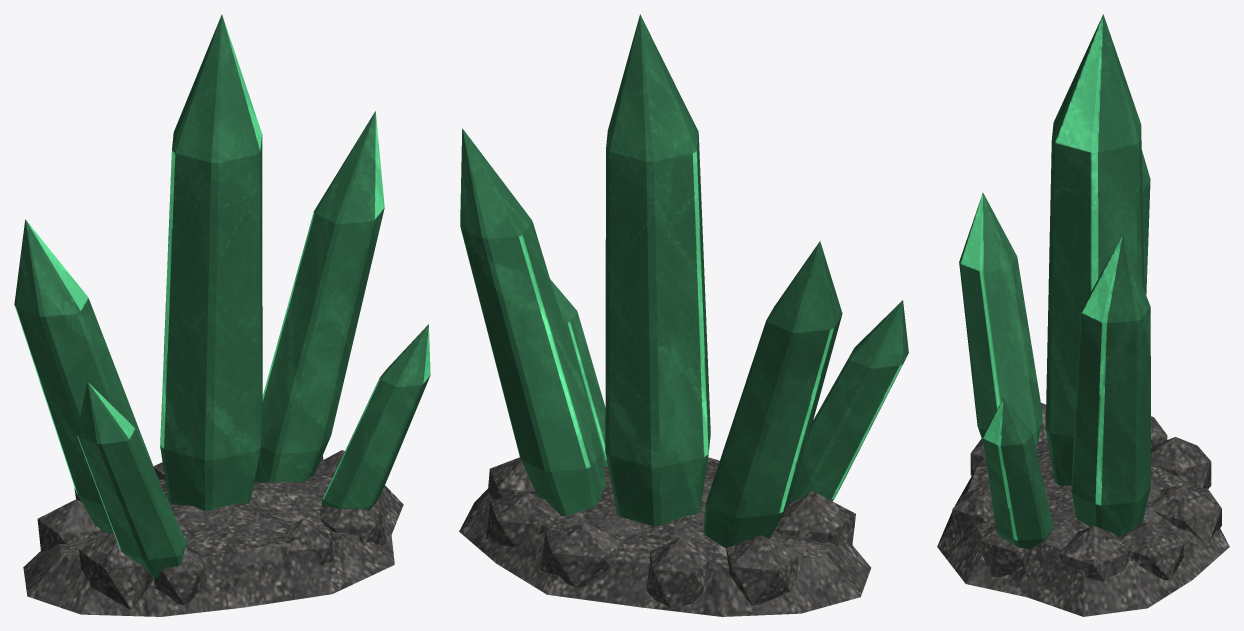
Rendered from ore_cluster_06_bloom.glb.
3 views of the same model, side by side, from view 1: azimuth 30°, elevation 25°; view 2: azimuth 150°, elevation 25°; view 3: azimuth 270°, elevation 25° (orthographic). The views are drawn at different scales.
Visible parts, largest first — view 1: ore_cluster_06_bloom; view 2: ore_cluster_06_bloom; view 3: ore_cluster_06_bloom.
Boxes of the visible parts, x1,y1,x2,y2 form: ore_cluster_06_bloom: (14, 14, 430, 616); ore_cluster_06_bloom: (459, 14, 908, 616); ore_cluster_06_bloom: (937, 14, 1229, 616).
Bounding box in the file's own units: 33.75 × 45 × 22.96.
Materials: 3 (3 with a texture image).
